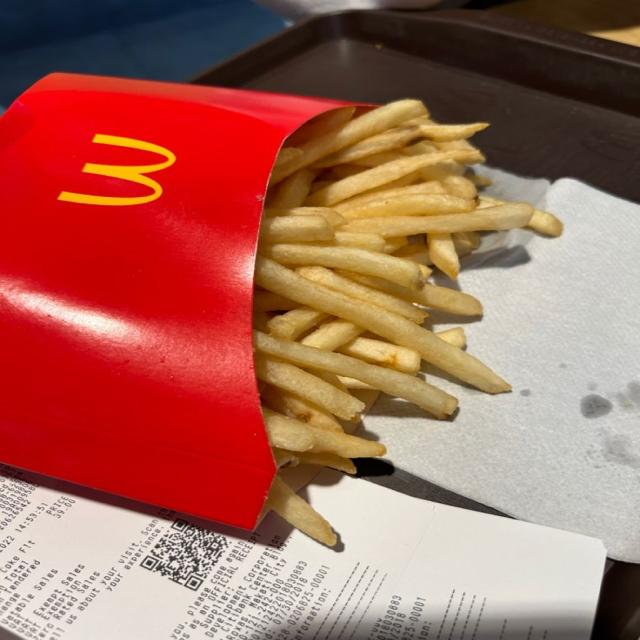potato fries: (254, 100, 561, 472)
